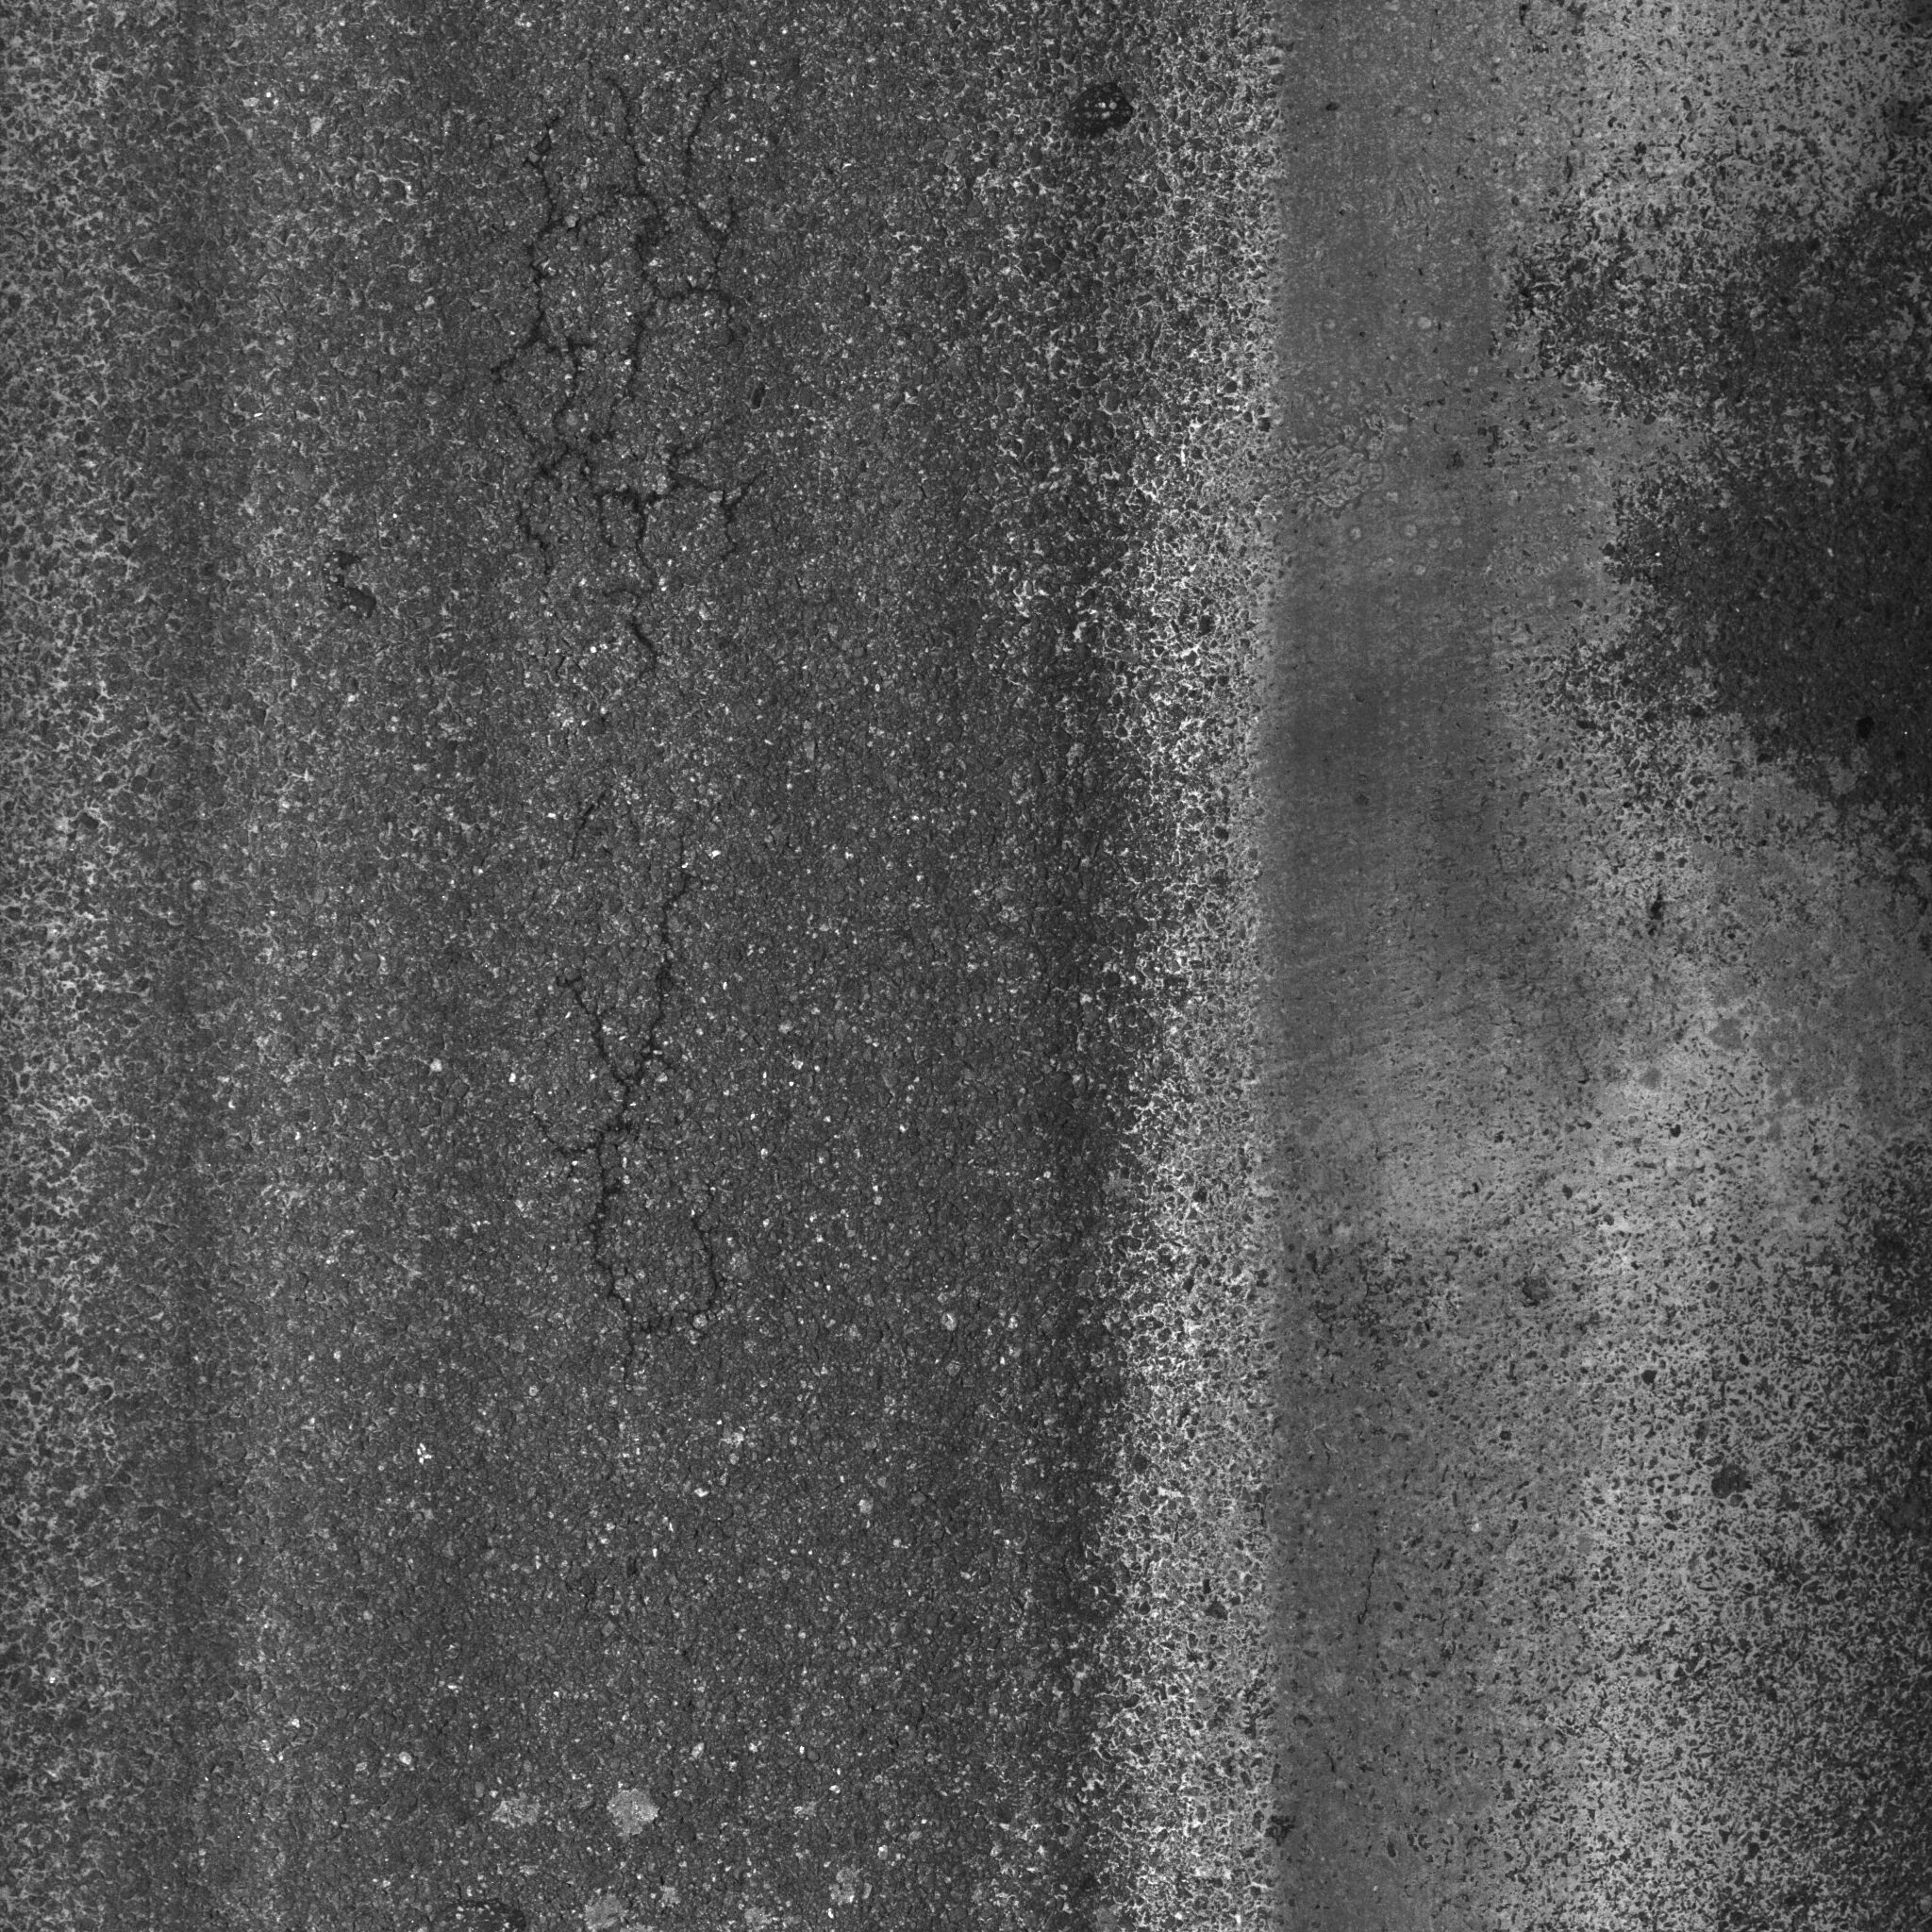alligator: (368, 41, 952, 1437)
